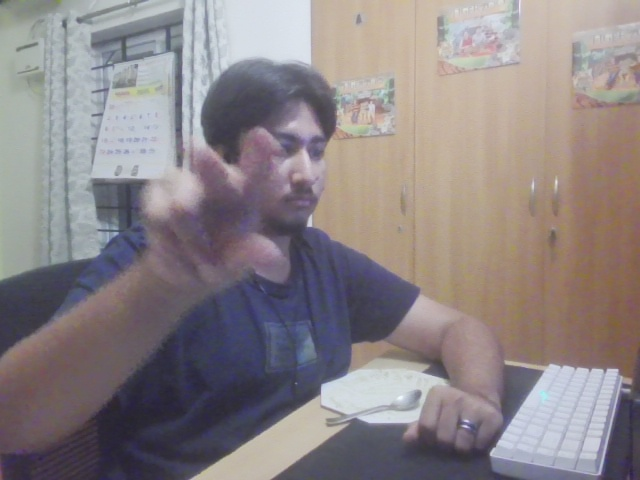no: (132, 125, 287, 293)
